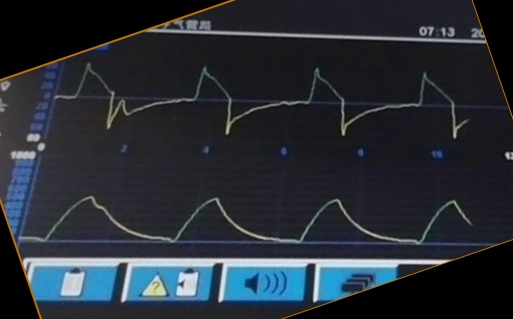Premature_cycling Flow: (70, 58, 472, 145)
Premature_cycling Volume: (36, 176, 471, 252)
